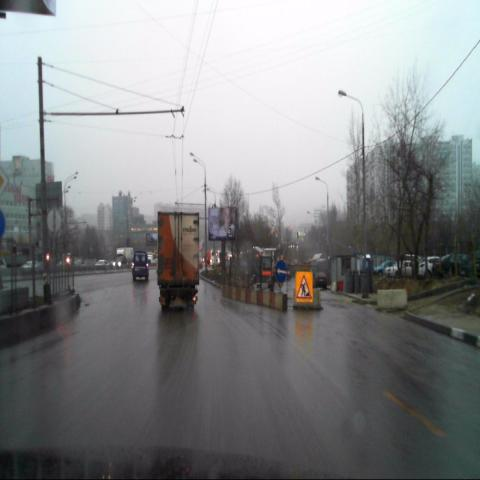4_1_2_2: (275, 260, 286, 284)
